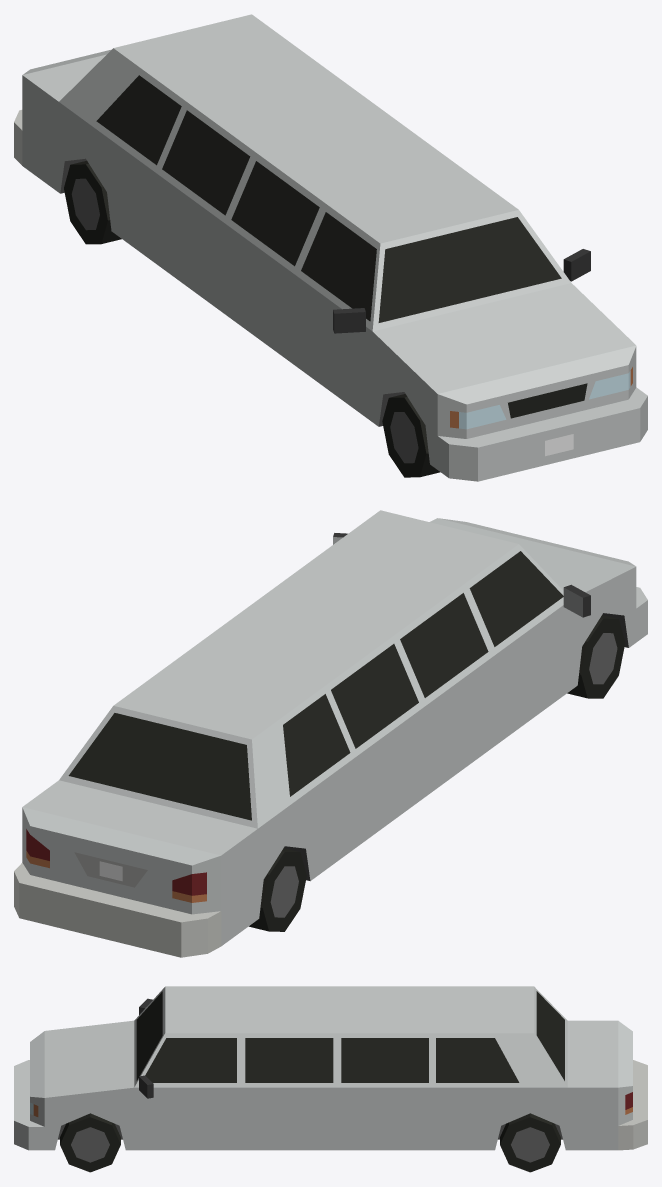
The model's file is Veh_Limousine.glb.
3 renders of one model, top to bottom at view 1: azimuth 30°, elevation 25°; view 2: azimuth 150°, elevation 25°; view 3: azimuth 270°, elevation 25°, orthographic. The views are drawn at different scales.
Visible parts, largest first — view 1: Limousine, Wheel_RR, Wheel_FR; view 2: Limousine, Wheel_RR, Wheel_FR; view 3: Limousine, Wheel_RL, Wheel_FL.
Boxes of the visible parts, x1,y1,x2,y2 form: Limousine: (14, 14, 647, 481); Wheel_RR: (64, 160, 121, 244); Wheel_FR: (382, 394, 440, 477); Limousine: (14, 510, 647, 957); Wheel_RR: (249, 848, 306, 931); Wheel_FR: (567, 615, 625, 698); Limousine: (14, 986, 647, 1150); Wheel_RL: (500, 1113, 560, 1172); Wheel_FL: (60, 1113, 120, 1172).
Size of the model in its own units: 1.22 by 0.852 by 3.79.
1 material, 1 textured.
